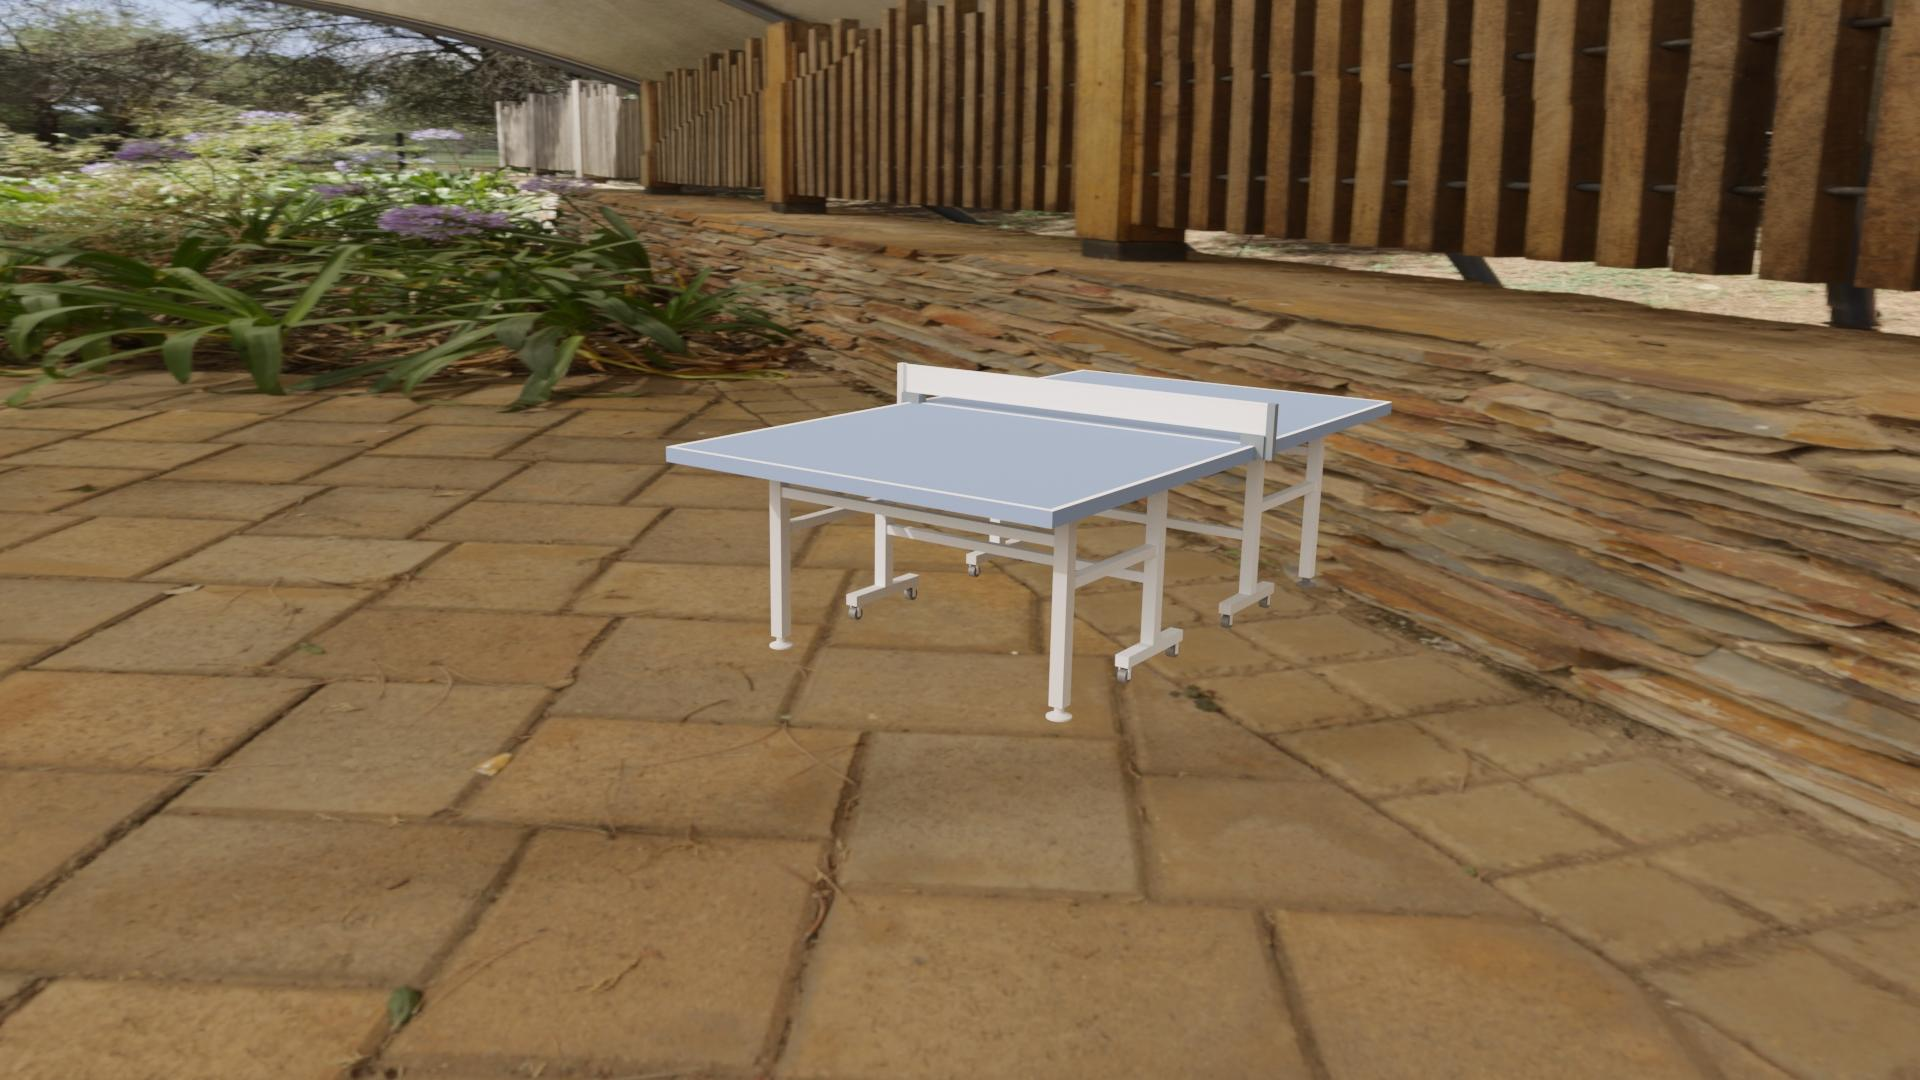table: (675, 371, 1386, 509)
